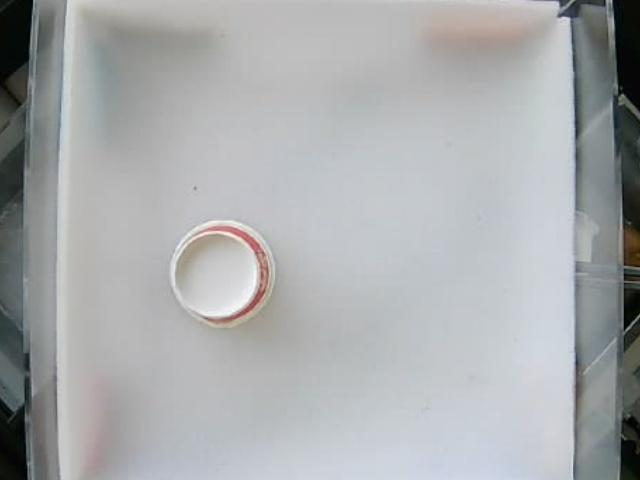Cup: (168, 217, 274, 327)
